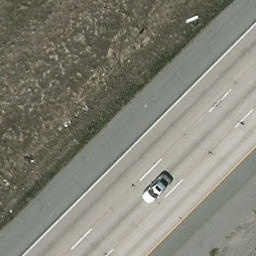car: (139, 171, 175, 205)
